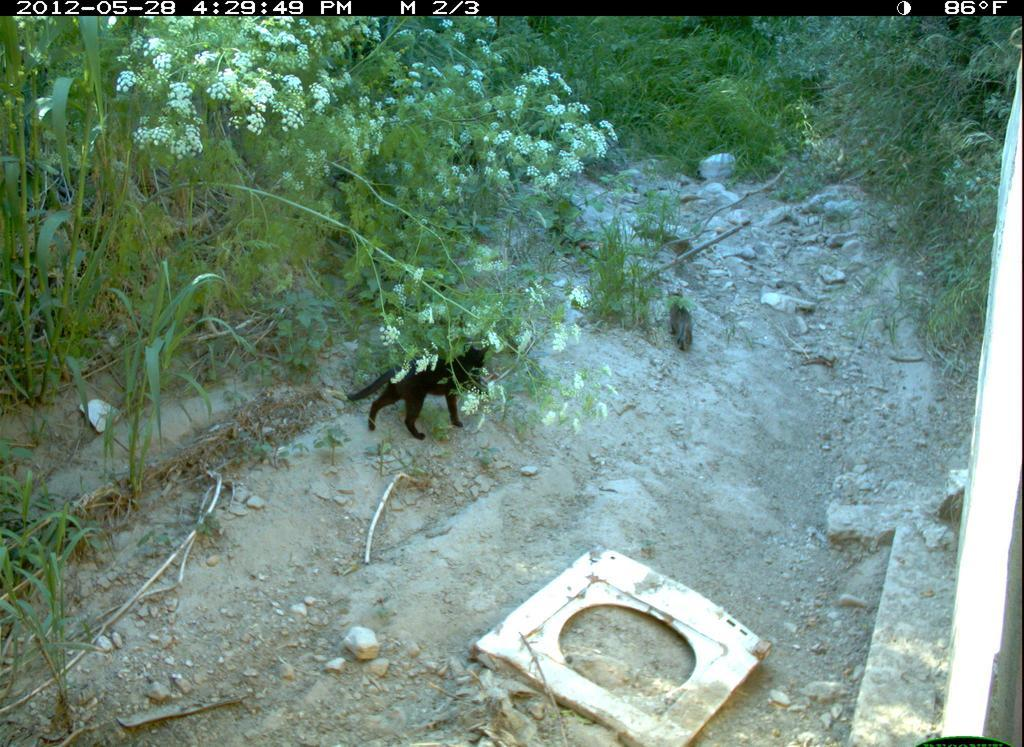cat: (341, 338, 504, 448)
